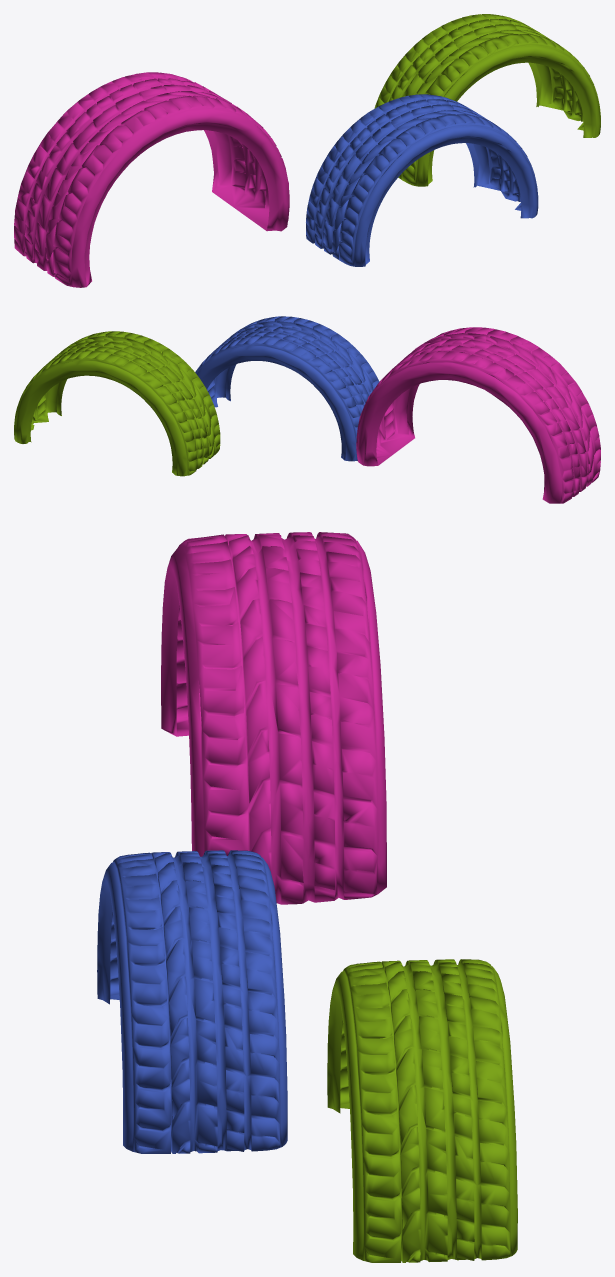
The model's file is ruote2.fbx.
3 views of the same model, one above another, from view 1: azimuth 30°, elevation 25°; view 2: azimuth 150°, elevation 25°; view 3: azimuth 270°, elevation 25° (orthographic). The views are drawn at different scales.
Visible parts, largest first — view 1: PM3D_Tire11.001, PM3D_Tire11, PM3D_Tire11.002; view 2: PM3D_Tire11.001, PM3D_Tire11.002, PM3D_Tire11; view 3: PM3D_Tire11.001, PM3D_Tire11, PM3D_Tire11.002.
Part boxes in pixels (box(x1,y1,x2,y2)): PM3D_Tire11.001: box(14, 72, 289, 287); PM3D_Tire11: box(306, 94, 538, 266); PM3D_Tire11.002: box(374, 14, 600, 186); PM3D_Tire11.001: box(356, 327, 600, 503); PM3D_Tire11.002: box(14, 331, 220, 476); PM3D_Tire11: box(195, 316, 379, 461); PM3D_Tire11.001: box(161, 532, 386, 904); PM3D_Tire11: box(97, 850, 287, 1153); PM3D_Tire11.002: box(327, 959, 517, 1262).
Size of the model in its own units: 1145 by 326 by 405.
